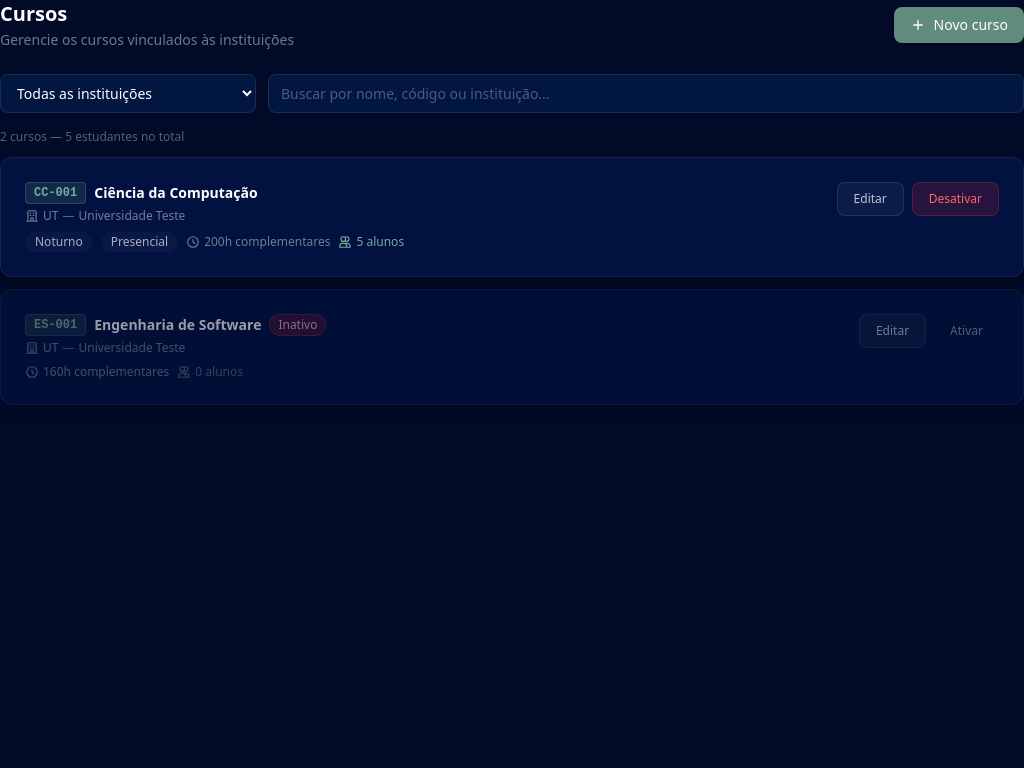
Scenario: Cursos — modal editar › abre modal de edição ao clicar em Editar
Click the button "Editar" in the row of "Ciência da Computação" at [870, 199], box [837,182,904,216]
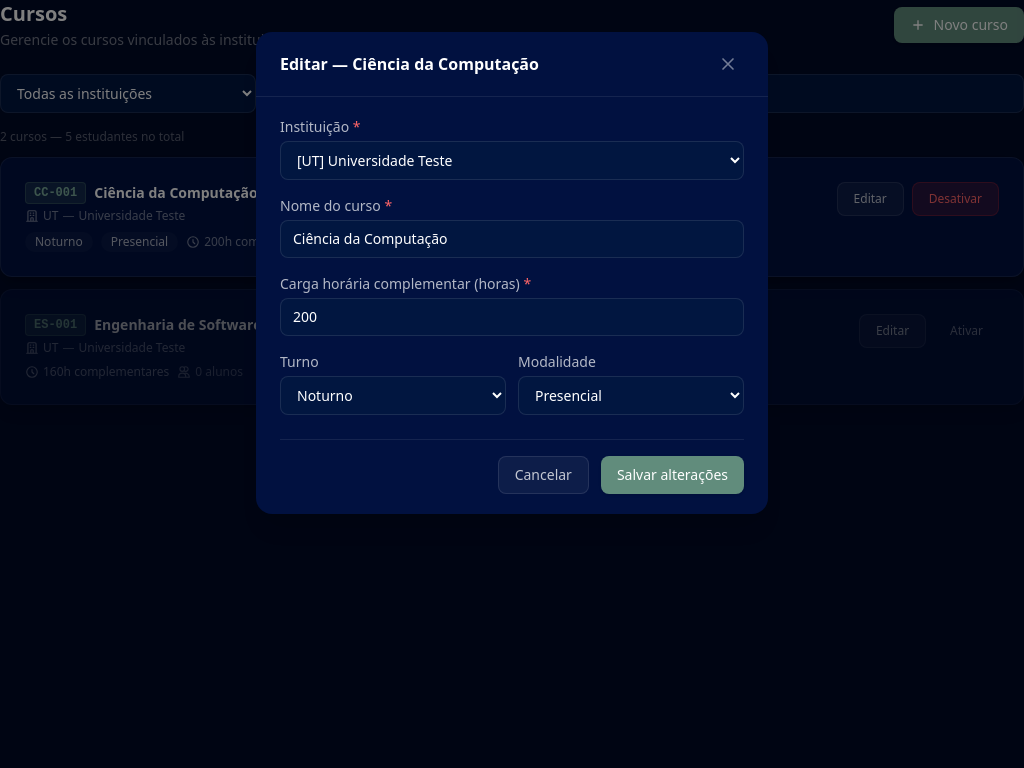
Check: the button "Salvar alterações" is shown, box [601,456,744,494]
